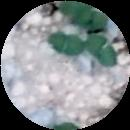Basil: (68, 2, 107, 25), (47, 31, 80, 56), (91, 39, 114, 67)
